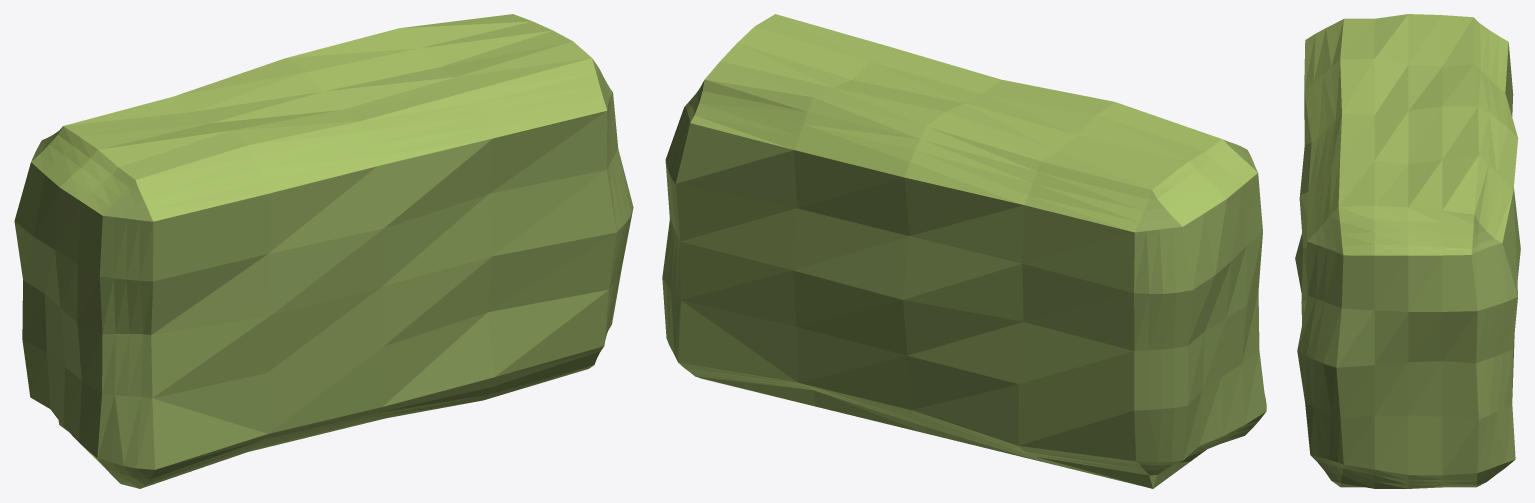
Rendered from Hedge.glb.
3 renders of one model, left to right at view 1: azimuth 30°, elevation 25°; view 2: azimuth 150°, elevation 25°; view 3: azimuth 270°, elevation 25°, orthographic. The views are drawn at different scales.
Visible parts, largest first — view 1: Hedge; view 2: Hedge; view 3: Hedge.
Part boxes in pixels (bbox=[...]): Hedge: bbox=[14, 14, 633, 488]; Hedge: bbox=[662, 14, 1266, 488]; Hedge: bbox=[1295, 14, 1520, 488].
Bounding box in the file's own units: 1.67 × 0.9242 × 0.6656.
